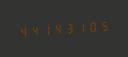five: (101, 17, 112, 33)
four: (17, 23, 28, 39), (29, 22, 40, 38), (53, 20, 64, 36)
one: (41, 21, 52, 37), (77, 19, 88, 35)
three: (65, 19, 76, 36)
zero: (89, 18, 100, 34)
